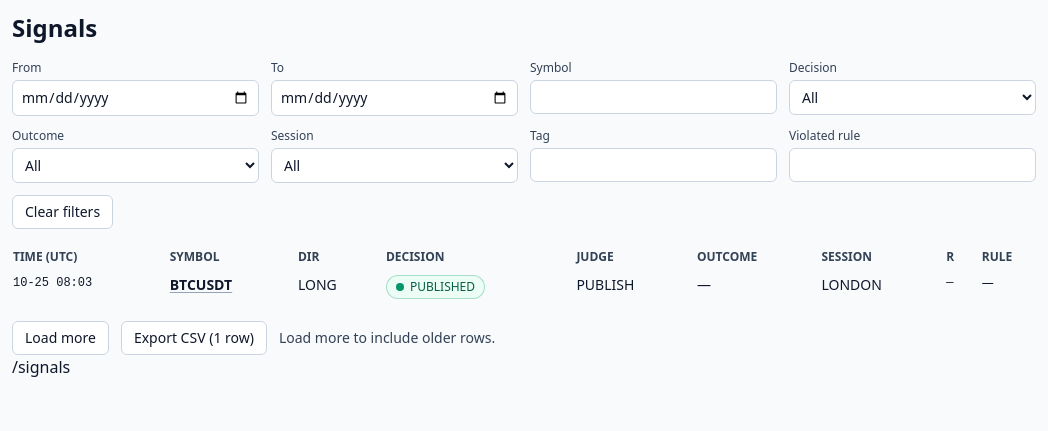
SignalsPage › loads more rows by cursor and hides the button on the last page
This screenshot has width=1048, height=431.
Expected: the link "BTCUSDT" is shown, [170,275,232,294]
Click the button "Load more": [60, 338] box [12,321,109,355]
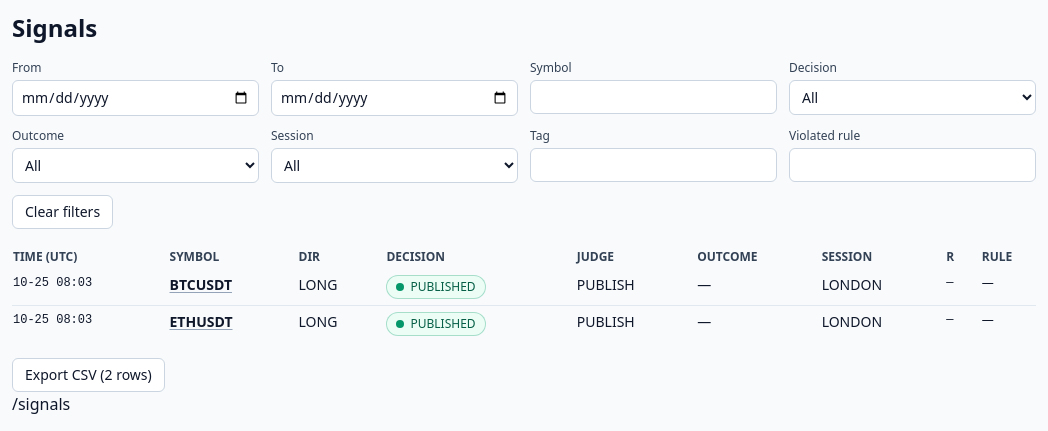
Expected: the link "BTCUSDT" is shown, [170,275,232,294]
Now the link "ETHUSDT" is shown, box [170,312,232,331]
Now the button "Load more" is gone
